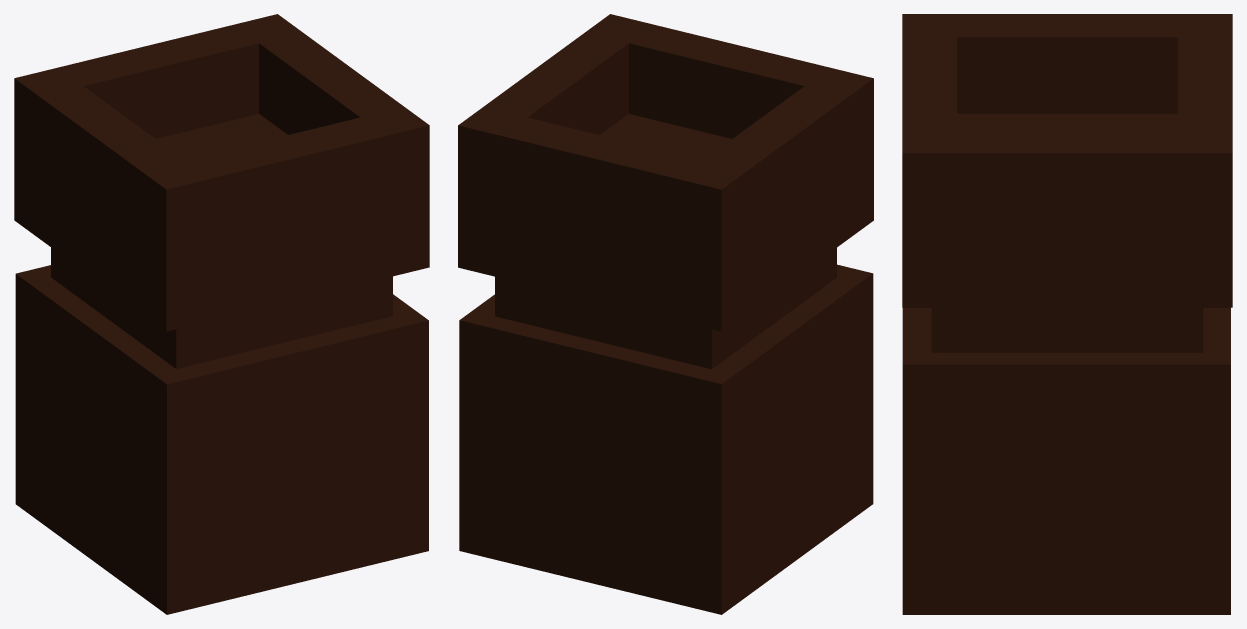
3 renders of one model, left to right at view 1: azimuth 30°, elevation 25°; view 2: azimuth 150°, elevation 25°; view 3: azimuth 270°, elevation 25°, orthographic. The views are drawn at different scales.
Visible parts, largest first — view 1: 四角1凹_1, 四角1凹_3, 四角1凹_2; view 2: 四角1凹_1, 四角1凹_3, 四角1凹_2; view 3: 四角1凹_3, 四角1凹_1, 四角1凹_2.
Boxes of the visible parts, box(x1,y1,x2,y2) form: 四角1凹_1: box(15, 265, 428, 614); 四角1凹_3: box(14, 14, 429, 331); 四角1凹_2: box(51, 247, 392, 368); 四角1凹_1: box(459, 264, 873, 614); 四角1凹_3: box(458, 14, 873, 331); 四角1凹_2: box(495, 248, 836, 369); 四角1凹_3: box(902, 14, 1232, 307); 四角1凹_1: box(902, 307, 1230, 614); 四角1凹_2: box(931, 307, 1203, 352).
Size of the model in its own units: 0.022 by 0.034 by 0.022.
